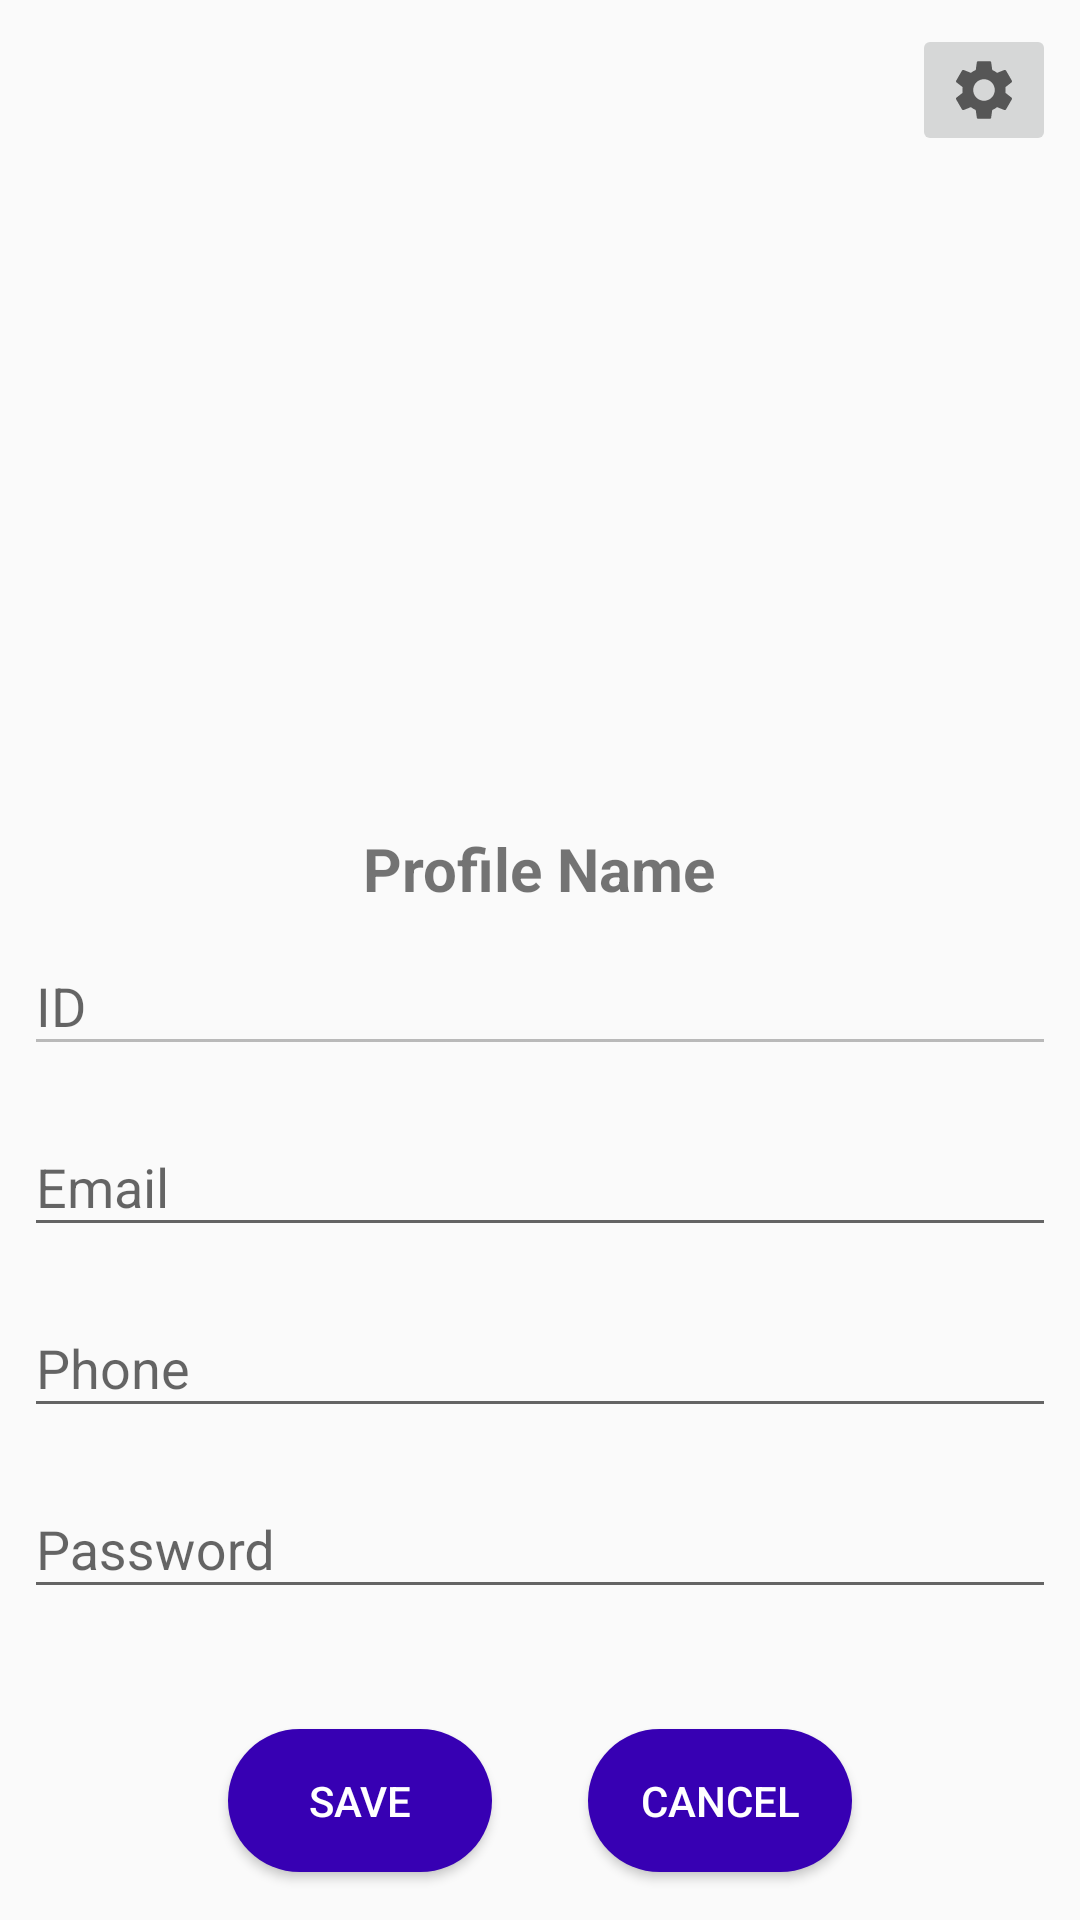

Locate icon controls on the screen. Image size 1080×1920, boxes as bbox=(x1, y1, x2, y2).
settings: bbox=(924, 42, 1044, 138)
